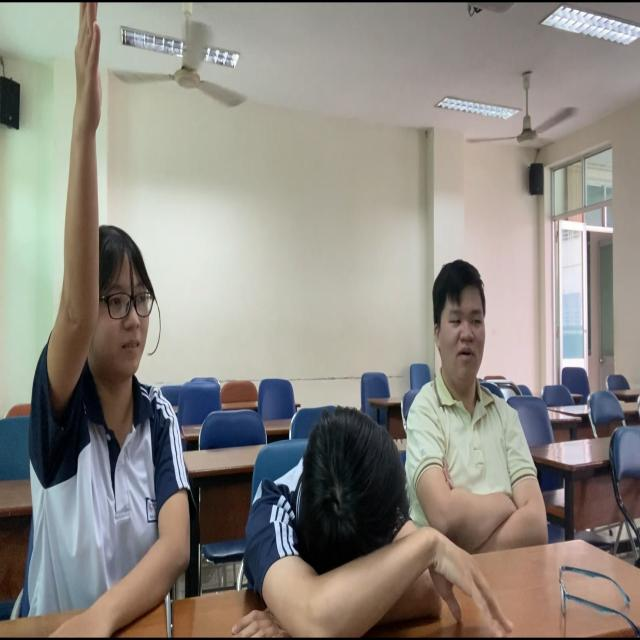raise_hand: (12, 1, 191, 626)
sleep: (248, 400, 456, 640)
